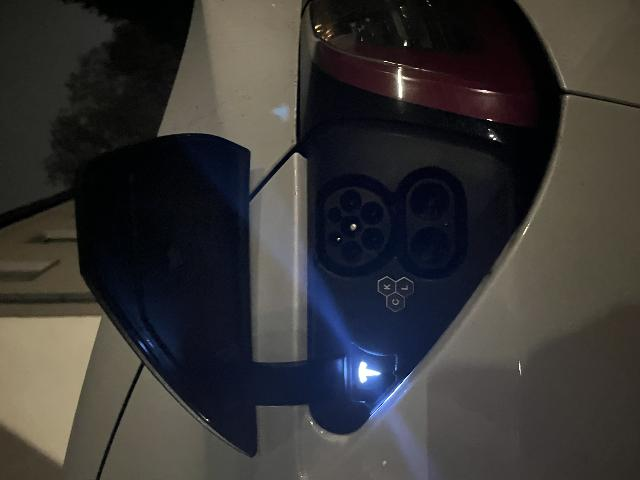inlet: (213, 324, 293, 390)
inlet-above-left: (230, 327, 249, 343)
inlet-above-right: (256, 327, 273, 341)
inlet-below-left: (229, 361, 252, 384)
inlet-below-right: (255, 360, 278, 383)
inlet-circle: (242, 340, 264, 361)
inlet-circle-left: (217, 341, 239, 363)
inlet-circle-right: (267, 340, 290, 361)
inlet-minus: (259, 409, 297, 450)
inlet-plus: (213, 411, 254, 451)
